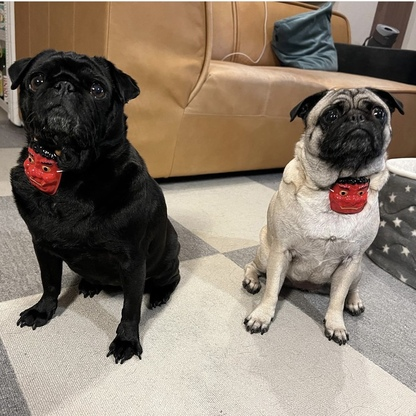Pug: (4, 45, 186, 368), (237, 83, 405, 347)
